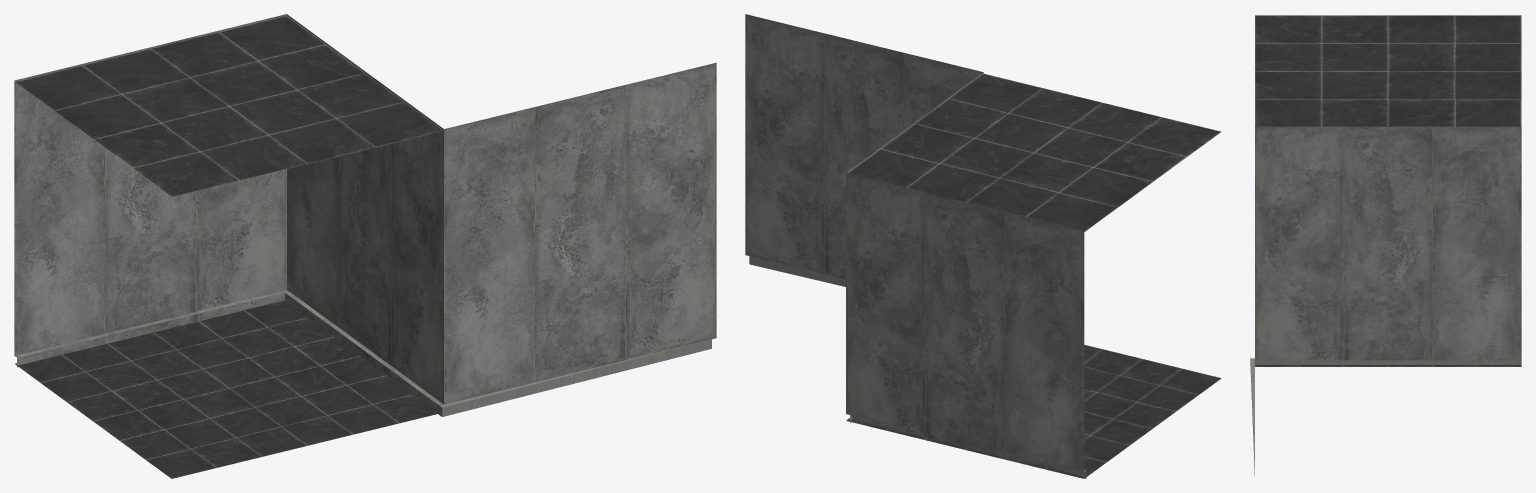
File: build_parts.fbx
The picture shows the model from 3 angles, left to right: view 1: azimuth 30°, elevation 25°; view 2: azimuth 150°, elevation 25°; view 3: azimuth 270°, elevation 25°; orthographic projection. The views are drawn at different scales.
Visible parts, largest first — view 1: Wall02, Wall_CornerInterior, Floor002, Floor01, Wall01; view 2: Wall_CornerInterior, Wall02, Floor002, Floor01; view 3: Wall_CornerInterior, Floor002, Wall02, Wall01, Floor01.
Part boxes in pixels (x1,y1,x2,y2): Wall02: (328, 45, 716, 416); Wall_CornerInterior: (14, 14, 443, 414); Floor002: (15, 15, 443, 196); Floor01: (15, 300, 438, 478); Wall01: (287, 32, 370, 348); Wall_CornerInterior: (846, 160, 1086, 478); Wall02: (745, 14, 983, 286); Floor002: (847, 73, 1221, 231); Floor01: (846, 345, 1221, 478); Wall_CornerInterior: (1255, 126, 1521, 364); Floor002: (1255, 15, 1521, 126); Wall02: (1250, 126, 1521, 475); Wall01: (1255, 360, 1479, 364); Floor01: (1255, 365, 1521, 366).
Bounding box in the file's own units: 236 × 118 × 120.
Materials: 2 (2 with a texture image).
